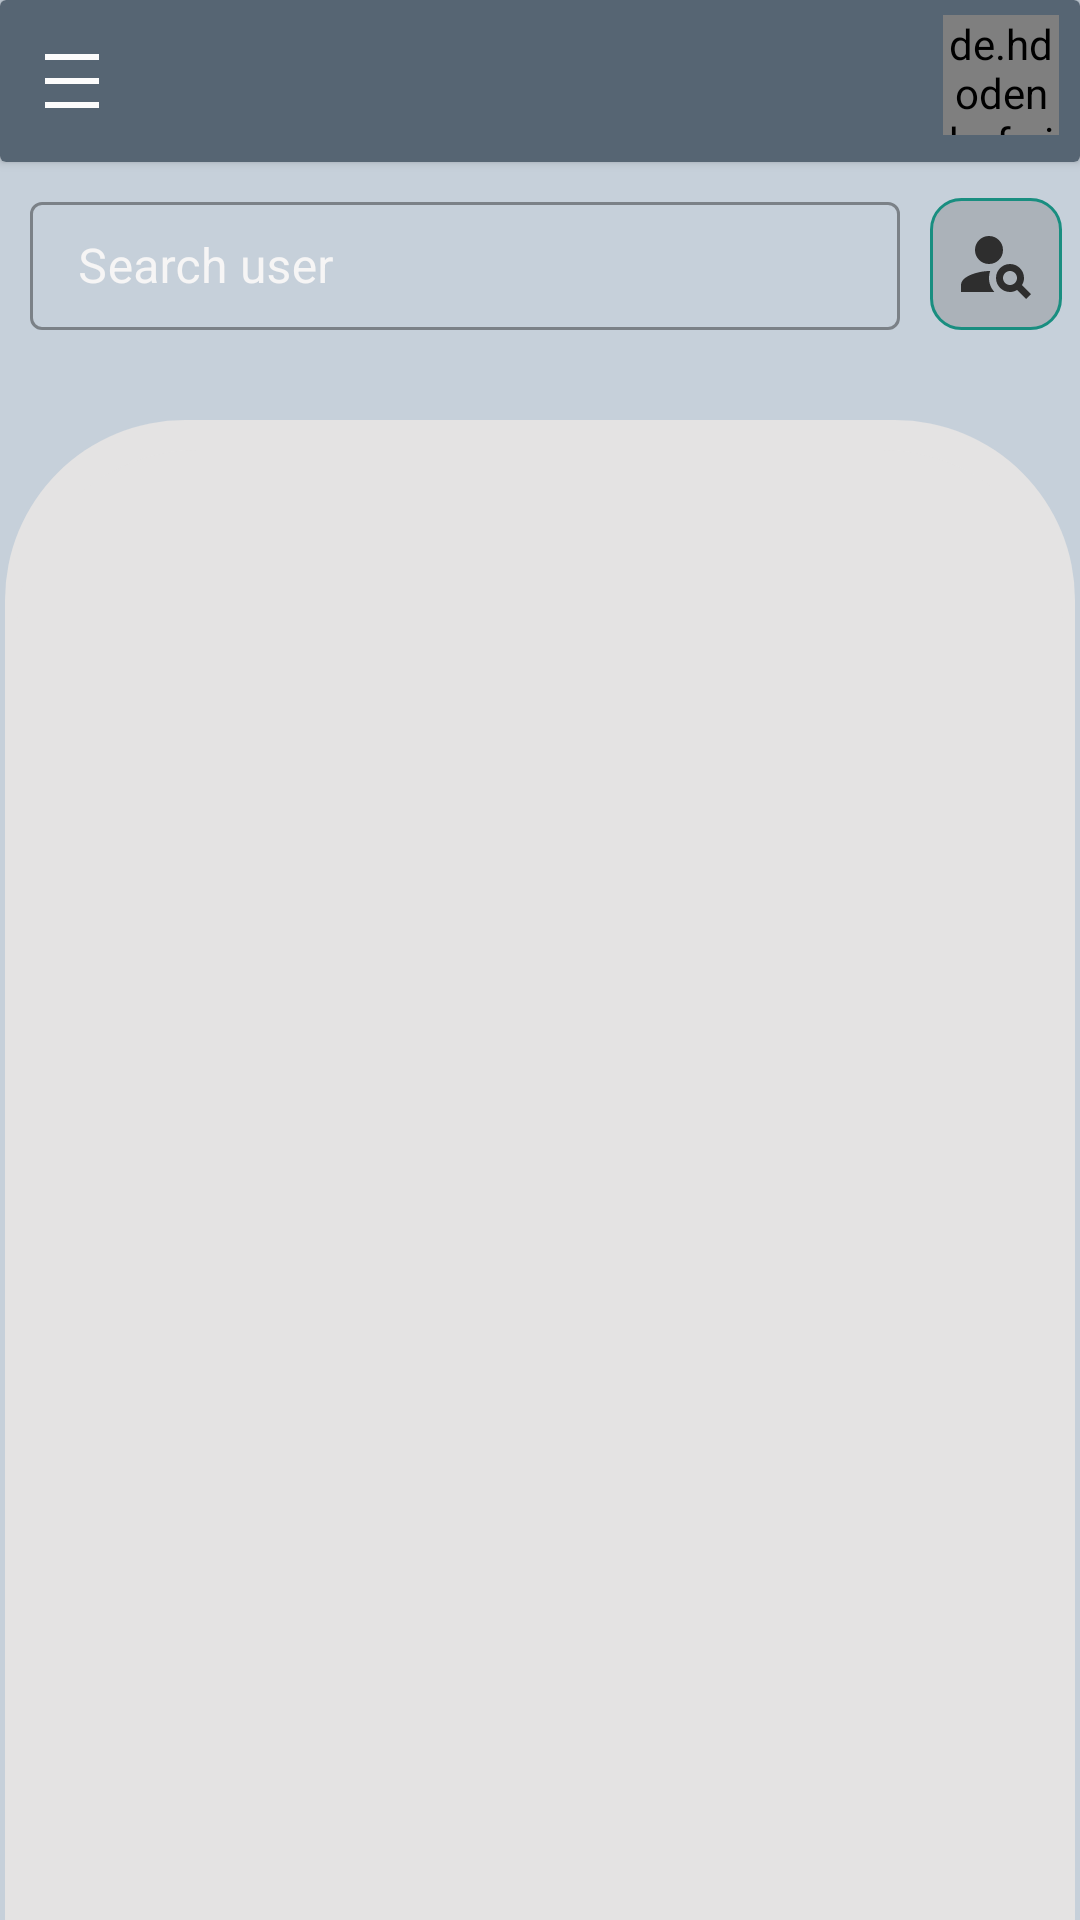

Point at icon controls on the screen. Image size 1080px×1920px, points as (x,y).
density medium: (72,81)
person search: (996,264)
